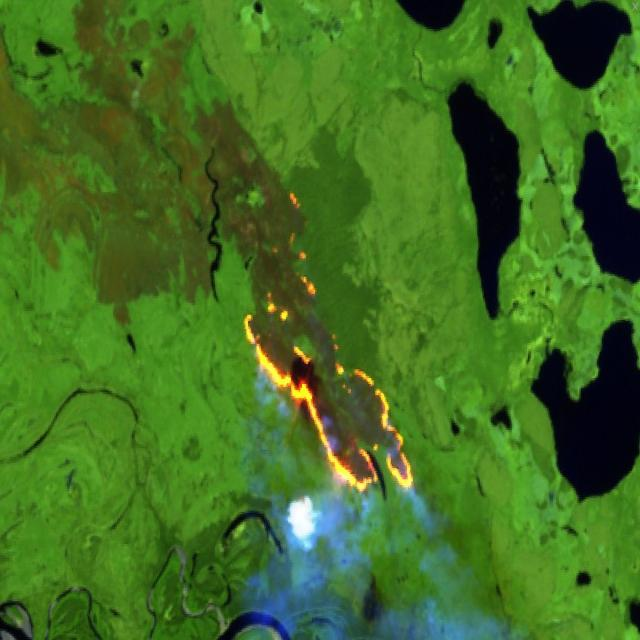fire: (240, 282, 416, 501)
